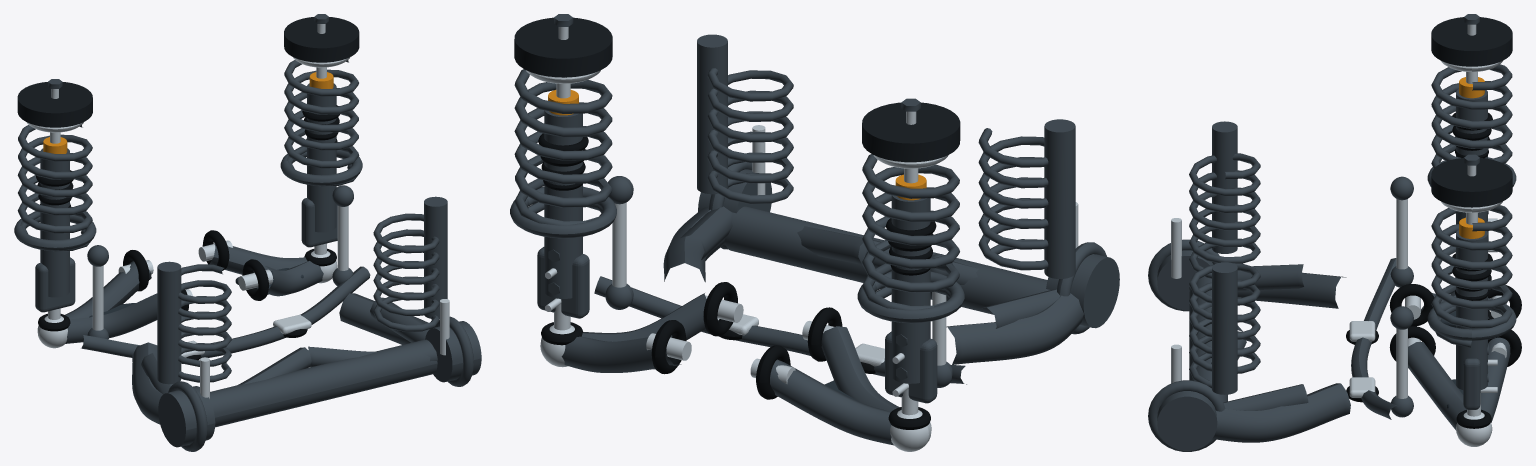
Rendered from generic_suspension.glb.
3 views of the same model, side by side, from view 1: azimuth 30°, elevation 25°; view 2: azimuth 150°, elevation 25°; view 3: azimuth 270°, elevation 25° (orthographic). The views are drawn at different scales.
Visible parts, largest first — view 1: system_mesh__torsion_beam__cross_beam, system_mesh__front_coil_springs__right_spring, system_mesh__front_coil_springs__left_spring, system_mesh__rear_springs__right_spring, system_mesh__rear_springs__left_spring, system_mesh__front_stabilizer_bar__u_bar, system_mesh__rear_shocks__left_shock, system_mesh__upper_strut_mounts__left_mount, system_mesh__upper_strut_mounts__right_mount, system_mesh__front_struts__left_damper_body, system_mesh__front_struts__right_damper_body, system_mesh__rear_hubs__left_hub (+26 smaller); view 2: system_mesh__front_coil_springs__right_spring, system_mesh__front_coil_springs__left_spring, system_mesh__torsion_beam__cross_beam, system_mesh__rear_springs__right_spring, system_mesh__rear_springs__left_spring, system_mesh__trailing_arms__left_arm, system_mesh__rear_shocks__left_shock, system_mesh__upper_strut_mounts__right_mount, system_mesh__upper_strut_mounts__left_mount, system_mesh__lower_control_arms__left_rear_leg, system_mesh__front_struts__right_damper_body, system_mesh__front_struts__left_damper_body (+26 smaller); view 3: system_mesh__front_coil_springs__right_spring, system_mesh__rear_springs__left_spring, system_mesh__trailing_arms__right_arm, system_mesh__front_coil_springs__left_spring, system_mesh__rear_springs__right_spring, system_mesh__rear_shocks__right_shock, system_mesh__upper_strut_mounts__left_mount, system_mesh__upper_strut_mounts__right_mount, system_mesh__rear_hubs__right_hub, system_mesh__rear_shocks__left_shock, system_mesh__front_struts__right_damper_body, system_mesh__lower_control_arms__right_front_leg (+28 smaller).
Boxes of the visible parts, x1,y1,x2,y2 form: system_mesh__torsion_beam__cross_beam: (210,339,437,427); system_mesh__front_coil_springs__right_spring: (284,60,359,186); system_mesh__front_coil_springs__left_spring: (17,125,92,251); system_mesh__rear_springs__right_spring: (373,213,439,331); system_mesh__rear_springs__left_spring: (178,264,231,382); system_mesh__front_stabilizer_bar__u_bar: (81,266,370,358); system_mesh__rear_shocks__left_shock: (157,261,181,384); system_mesh__upper_strut_mounts__left_mount: (17,82,92,127); system_mesh__upper_strut_mounts__right_mount: (284,17,359,62); system_mesh__front_struts__left_damper_body: (40,148,69,297); system_mesh__front_struts__right_damper_body: (307,83,336,232); system_mesh__rear_hubs__left_hub: (158,386,215,447); system_mesh__front_coil_springs__right_spring: (514,69,612,225); system_mesh__front_coil_springs__left_spring: (862,154,959,310); system_mesh__torsion_beam__cross_beam: (724,206,1050,314); system_mesh__rear_springs__right_spring: (707,68,793,204); system_mesh__rear_springs__left_spring: (978,128,1048,270); system_mesh__trailing_arms__left_arm: (946,293,1083,364); system_mesh__rear_shocks__left_shock: (1044,119,1075,278); system_mesh__upper_strut_mounts__right_mount: (514,17,612,77); system_mesh__upper_strut_mounts__left_mount: (862,102,960,162); system_mesh__lower_control_arms__left_rear_leg: (770,359,893,445); system_mesh__front_struts__right_damper_body: (544,110,582,298); system_mesh__front_struts__left_damper_body: (891,195,930,383); system_mesh__front_coil_springs__right_spring: (1431,205,1512,347); system_mesh__rear_springs__left_spring: (1189,153,1260,278); system_mesh__trailing_arms__right_arm: (1212,383,1350,442); system_mesh__front_coil_springs__left_spring: (1431,64,1512,171); system_mesh__rear_springs__right_spring: (1189,263,1260,388); system_mesh__rear_shocks__right_shock: (1212,262,1237,394); system_mesh__upper_strut_mounts__left_mount: (1431,17,1512,66); system_mesh__upper_strut_mounts__right_mount: (1431,157,1512,207); system_mesh__rear_hubs__right_hub: (1157,391,1217,450); system_mesh__rear_shocks__left_shock: (1212,121,1237,253); system_mesh__front_struts__right_damper_body: (1456,230,1487,389); system_mesh__lower_control_arms__right_front_leg: (1408,342,1466,429).
Bounding box in the file's own units: 3.93 × 3.02 × 3.48.
